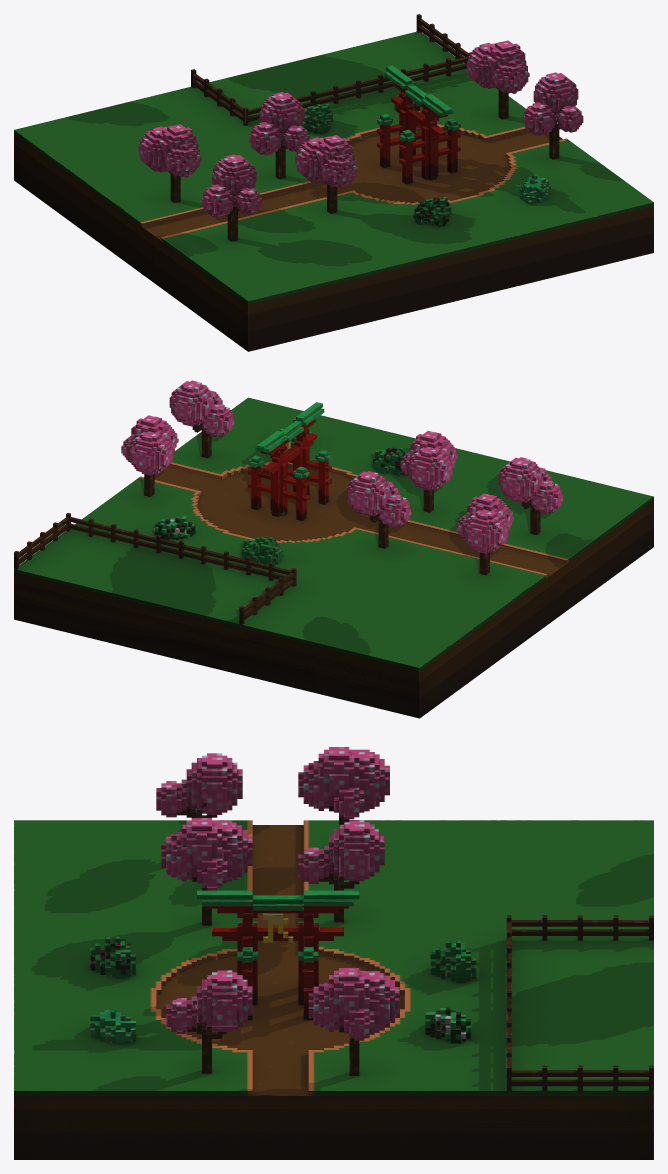
3 renders of one model, top to bottom at view 1: azimuth 30°, elevation 25°; view 2: azimuth 150°, elevation 25°; view 3: azimuth 270°, elevation 25°, orthographic. The views are drawn at different scales.
Parts seen in each view (by area): view 1: _D; view 2: _D; view 3: _D.
Boxes of the visible parts, x1,y1,x2,y2 form: _D: (14, 14, 653, 351); _D: (14, 380, 653, 718); _D: (14, 747, 653, 1159).
Bounding box in the file's own units: 126 × 126 × 38.
1 material, 1 textured.
